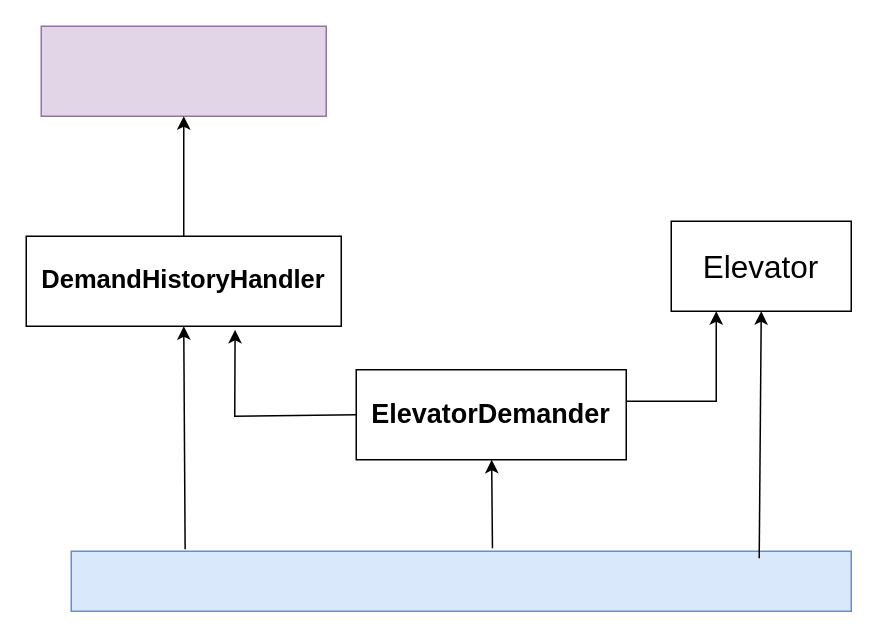
This 878x638 diagram has some shape labels left out. Here are the shapes that lost their labels. From the top down, the centre of each, then its label:
point (183, 70): DemandHistoryDB
point (460, 580): App
